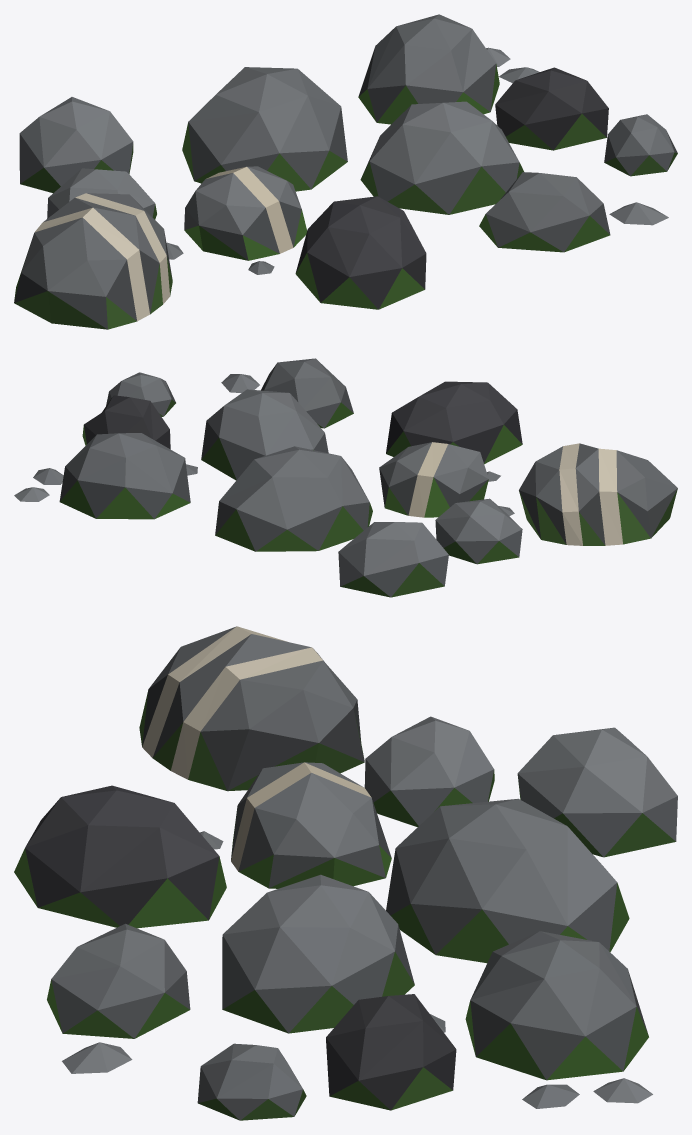
The model's file is river-stone-cluster-0b55bc.glb.
3 renders of one model, top to bottom at view 1: azimuth 30°, elevation 25°; view 2: azimuth 150°, elevation 25°; view 3: azimuth 270°, elevation 25°, orthographic. The views are drawn at different scales.
Visible parts, largest first — view 1: river-stones; view 2: river-stones; view 3: river-stones.
Part boxes in pixels (box(x1,y1,x2,y2)): river-stones: box(14, 14, 677, 329); river-stones: box(14, 358, 677, 597); river-stones: box(14, 626, 677, 1120).
Bounding box in the file's own units: 1.5 × 0.1881 × 1.
